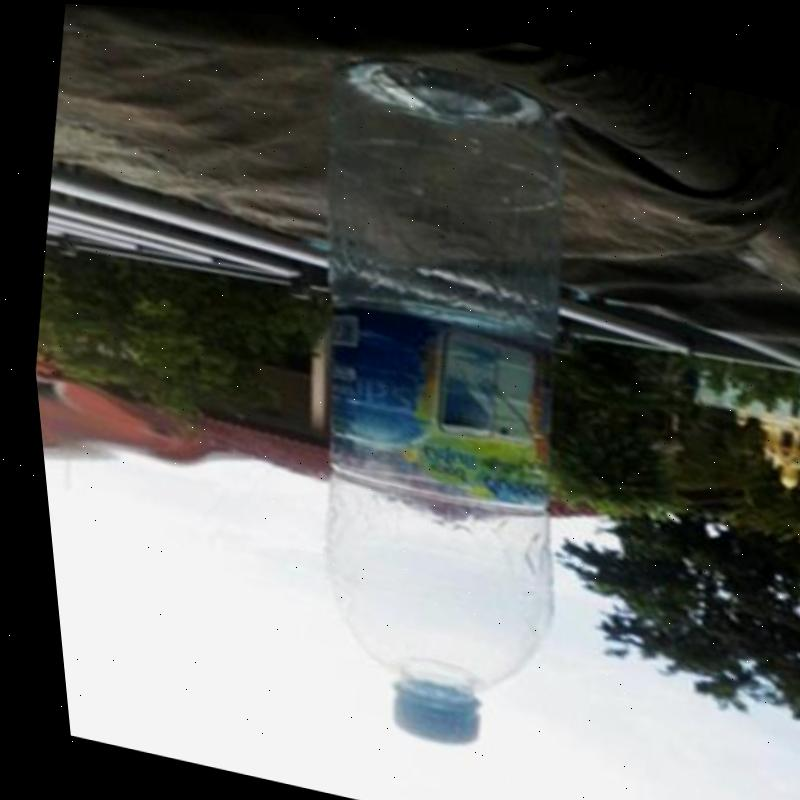botella: (227, 37, 643, 764)
